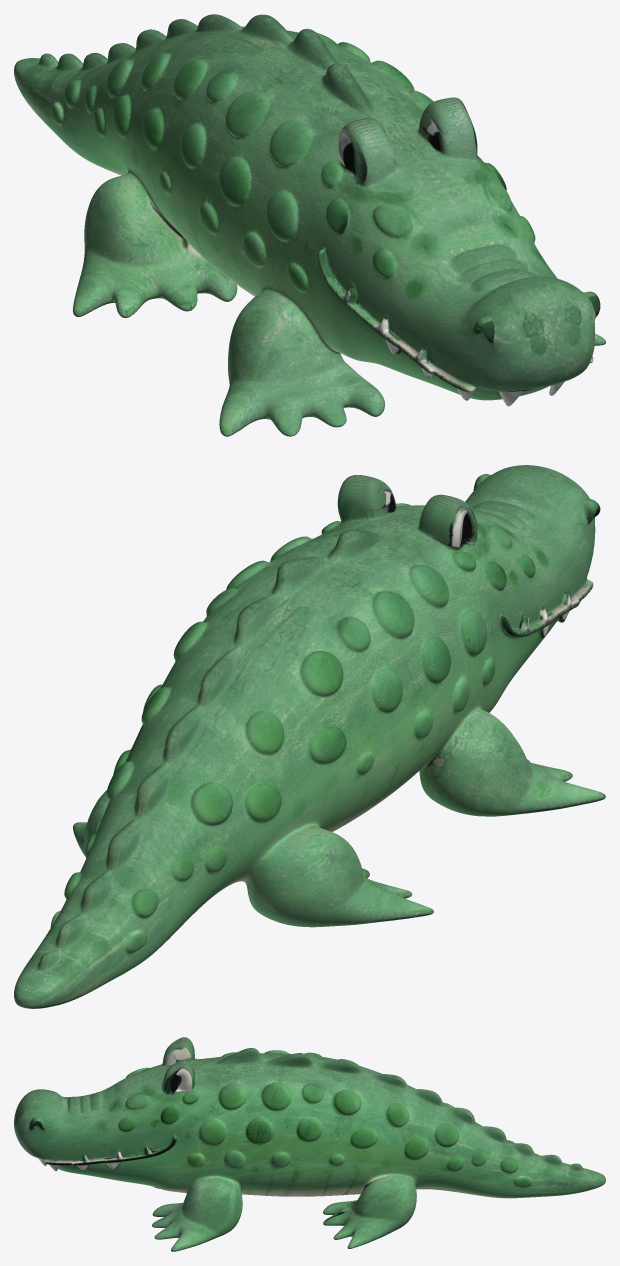
The model's file is crocodile.glb.
The picture shows the model from 3 angles, top to bottom: view 1: azimuth 30°, elevation 25°; view 2: azimuth 150°, elevation 25°; view 3: azimuth 270°, elevation 25°; orthographic projection. The views are drawn at different scales.
Visible parts, largest first — view 1: Mesh_0; view 2: Mesh_0; view 3: Mesh_0.
Boxes of the visible parts, x1=… form: Mesh_0: x1=14, y1=14, x2=605, y2=436; Mesh_0: x1=14, y1=465, x2=605, y2=1008; Mesh_0: x1=14, y1=1037, x2=605, y2=1251.
Size of the model in its own units: 0.7217 by 0.5 by 1.76.
1 material, 1 textured.
